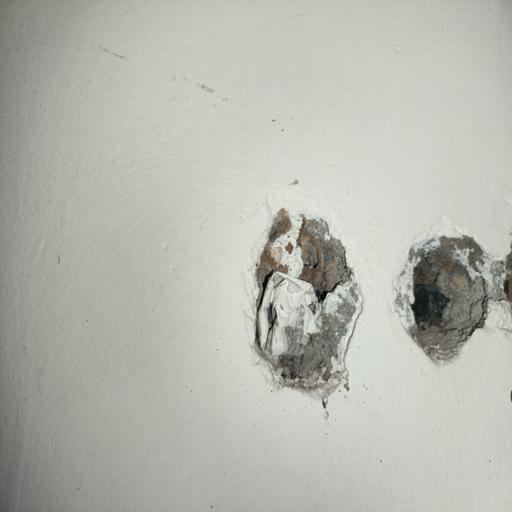spalling: (236, 193, 374, 416), (390, 214, 512, 372)
